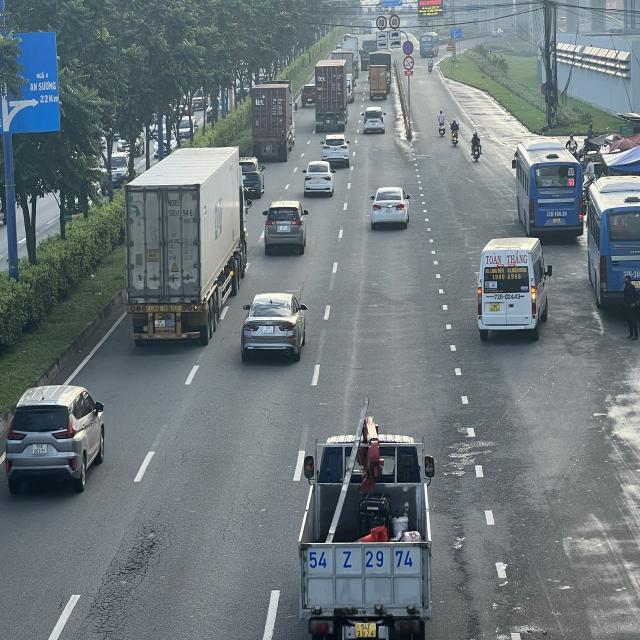car: (7, 383, 107, 491), (242, 294, 308, 362), (262, 200, 309, 253), (367, 189, 409, 230), (303, 161, 336, 196)
coach: (588, 174, 640, 320), (515, 143, 585, 241)
container: (120, 148, 248, 350), (253, 81, 299, 158), (316, 58, 351, 130)
truck: (299, 434, 438, 640), (367, 62, 391, 101)
van: (476, 237, 550, 340)
